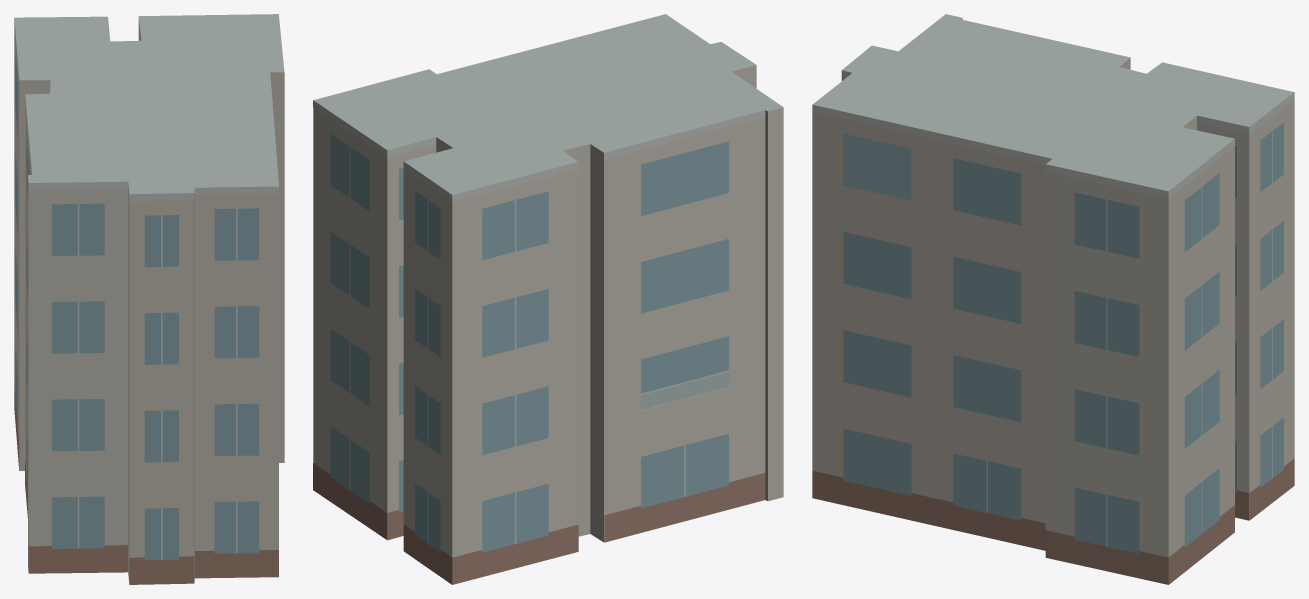
Rendered from survey-upis-32993684.glb.
3 views of the same model, side by side, from view 1: azimuth 30°, elevation 25°; view 2: azimuth 150°, elevation 25°; view 3: azimuth 270°, elevation 25° (orthographic).
Visible parts, largest first — view 1: survey-upis-32993684.tmp; view 2: survey-upis-32993684.tmp; view 3: survey-upis-32993684.tmp.
Part boxes in pixels (x1,y1,x2,y2): survey-upis-32993684.tmp: (14,14,284,584); survey-upis-32993684.tmp: (313,14,783,584); survey-upis-32993684.tmp: (812,14,1294,584).
Size of the model in its own units: 12.72 by 13.15 by 14.61.
